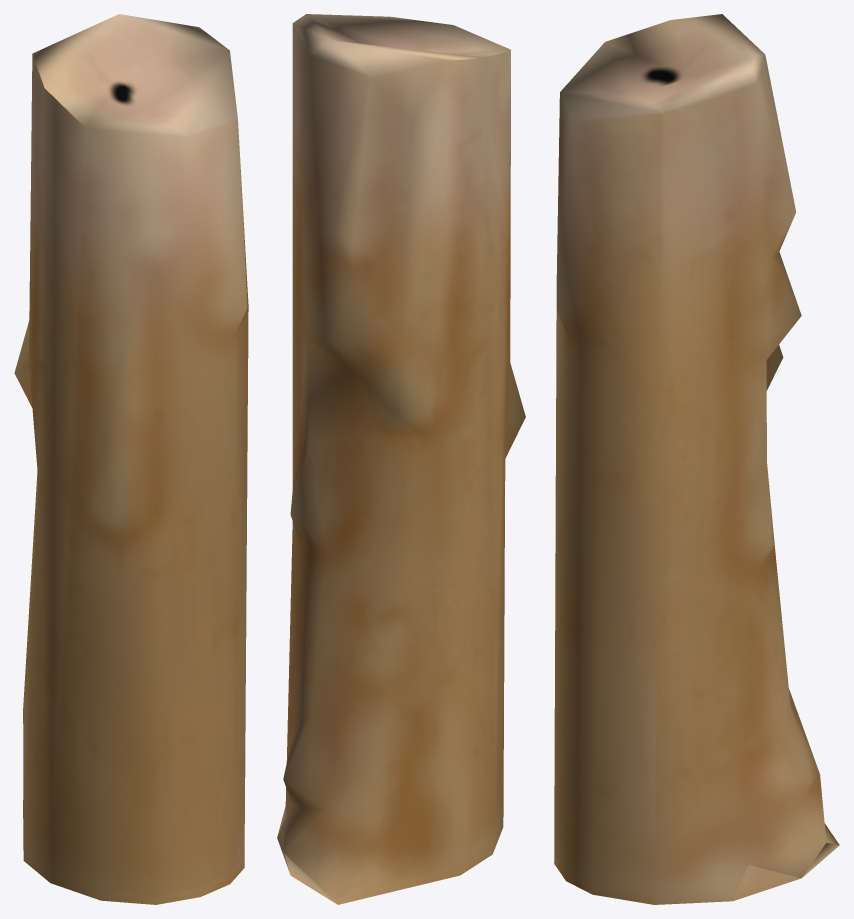
Rendered from SM_Candles_003.fbx.
3 renders of one model, left to right at view 1: azimuth 30°, elevation 25°; view 2: azimuth 150°, elevation 25°; view 3: azimuth 270°, elevation 25°, orthographic.
Visible parts, largest first — view 1: SM_Candles_003_LOD0; view 2: SM_Candles_003_LOD0; view 3: SM_Candles_003_LOD0.
Part boxes in pixels (x1=…): SM_Candles_003_LOD0: x1=14, y1=14, x2=248, y2=904; SM_Candles_003_LOD0: x1=277, y1=14, x2=525, y2=904; SM_Candles_003_LOD0: x1=554, y1=14, x2=839, y2=904.
Bounding box in the file's own units: 2.4 × 3.24 × 10.19.
1 material, 1 textured.
